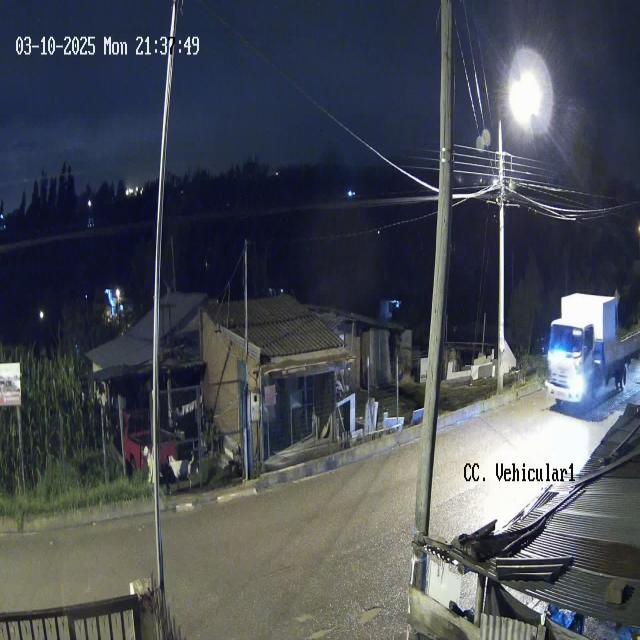TRUCK: (546, 287, 640, 413)
